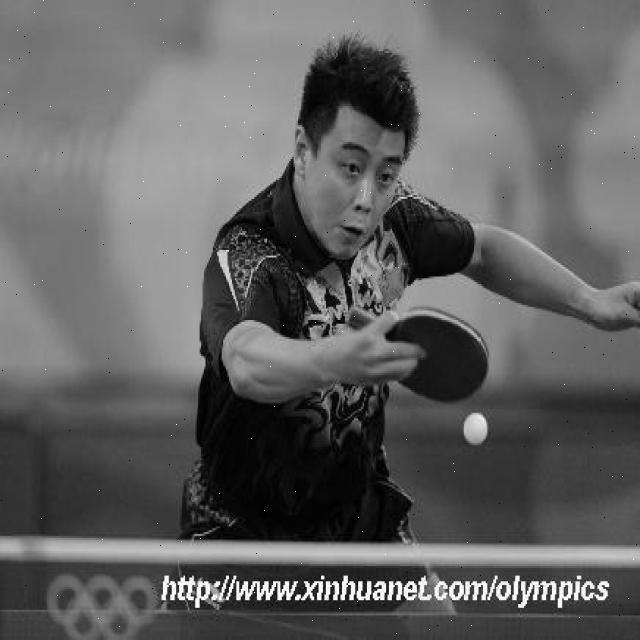ping-pong-ball: (463, 412, 490, 447)
